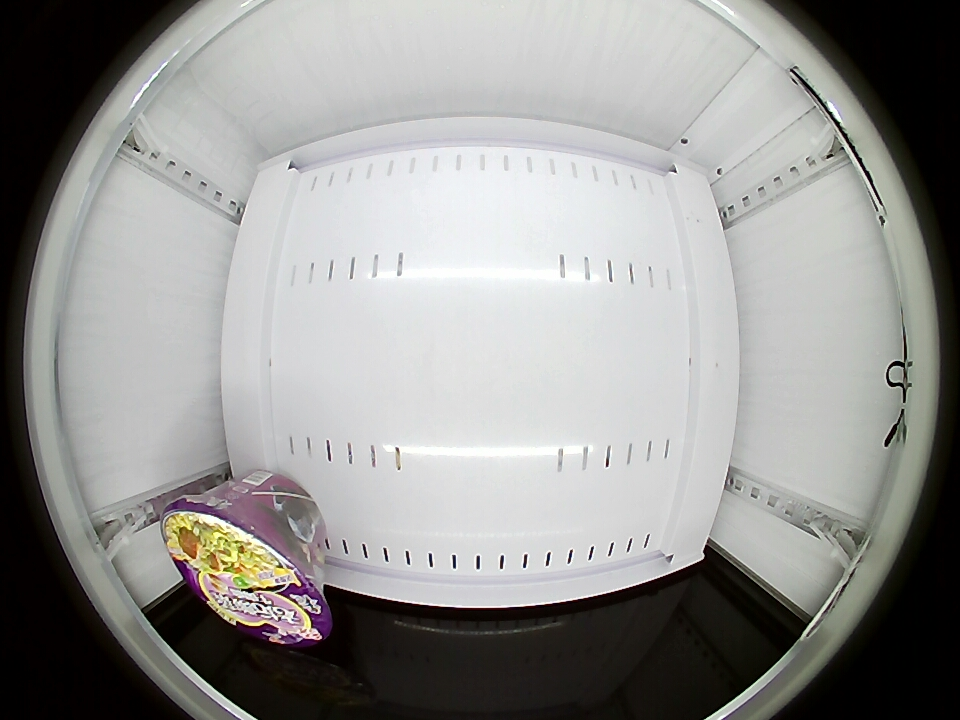laotansuancai: (162, 493, 331, 647)
